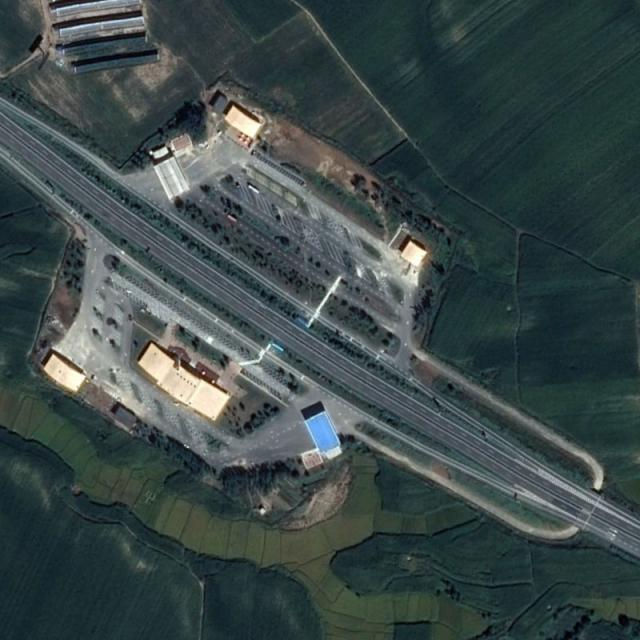vehicle: (247, 184, 260, 194), (227, 214, 237, 222)
